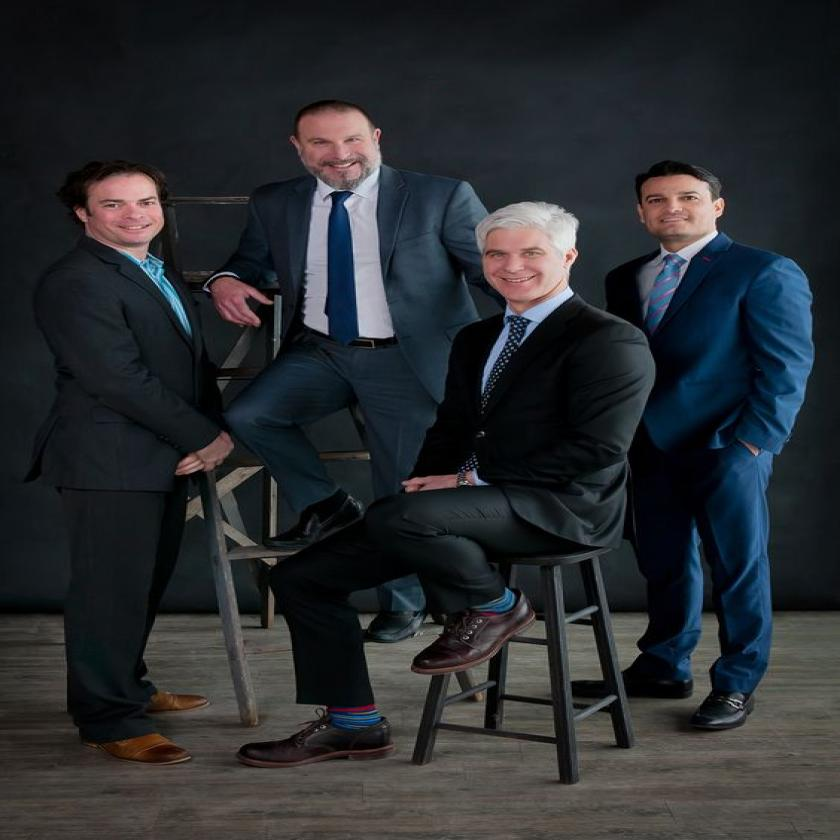Sin_casco: (466, 195, 586, 324), (281, 97, 384, 199), (67, 158, 171, 258), (622, 158, 730, 249)
